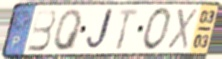B: (25, 8, 57, 53)
J: (84, 6, 116, 53)
O: (141, 6, 174, 52)
Q: (52, 8, 84, 53)
T: (115, 8, 140, 52)
X: (165, 8, 199, 52)
